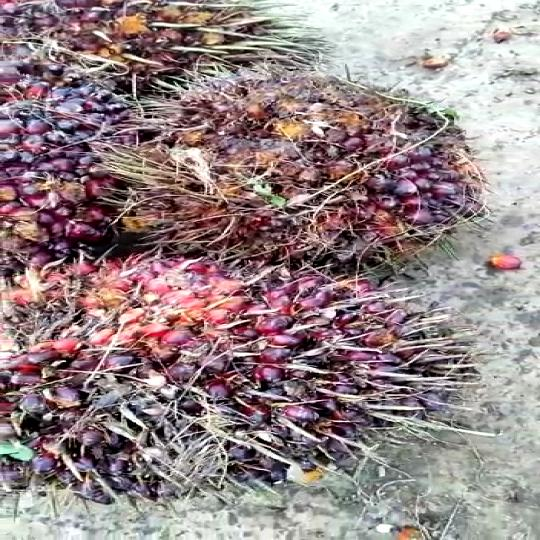masak: (0, 249, 469, 515), (139, 76, 489, 267)
